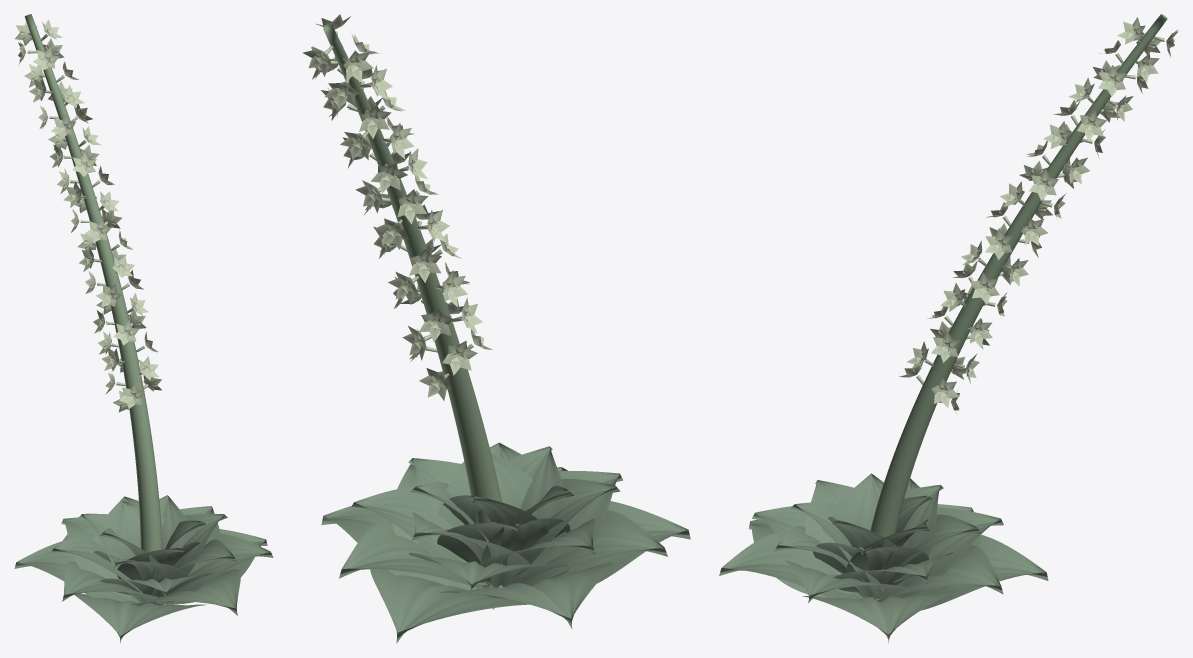
3 views of the same model, side by side, from view 1: azimuth 30°, elevation 25°; view 2: azimuth 150°, elevation 25°; view 3: azimuth 270°, elevation 25° (orthographic). The views are drawn at different scales.
Visible parts, largest first — view 1: leafy_base, flower_stalk; view 2: leafy_base, flower_stalk, floret.003, floret.008, floret.016, floret.029, floret.037, floret.024, floret, floret.045, floret.021, floret.011 (+1 smaller); view 3: leafy_base, flower_stalk.
Boxes of the visible parts, <box> form: leafy_base: <box>14,495,273,643</box>; flower_stalk: <box>24,14,162,601</box>; leafy_base: <box>321,442,690,643</box>; flower_stalk: <box>323,24,502,588</box>; floret.003: <box>442,341,477,375</box>; floret.008: <box>419,308,453,342</box>; floret.016: <box>409,249,441,282</box>; floret.029: <box>371,163,407,193</box>; floret.037: <box>359,105,391,138</box>; floret.024: <box>397,189,428,224</box>; floret: <box>419,368,451,400</box>; floret.045: <box>343,50,373,82</box>; floret.021: <box>374,218,409,249</box>; floret.011: <box>436,270,467,306</box>; leafy_base: <box>719,473,1048,643</box>; flower_stalk: <box>862,14,1167,600</box>.
Bounding box in the file's own units: 3.41 × 7.29 × 5.08.
